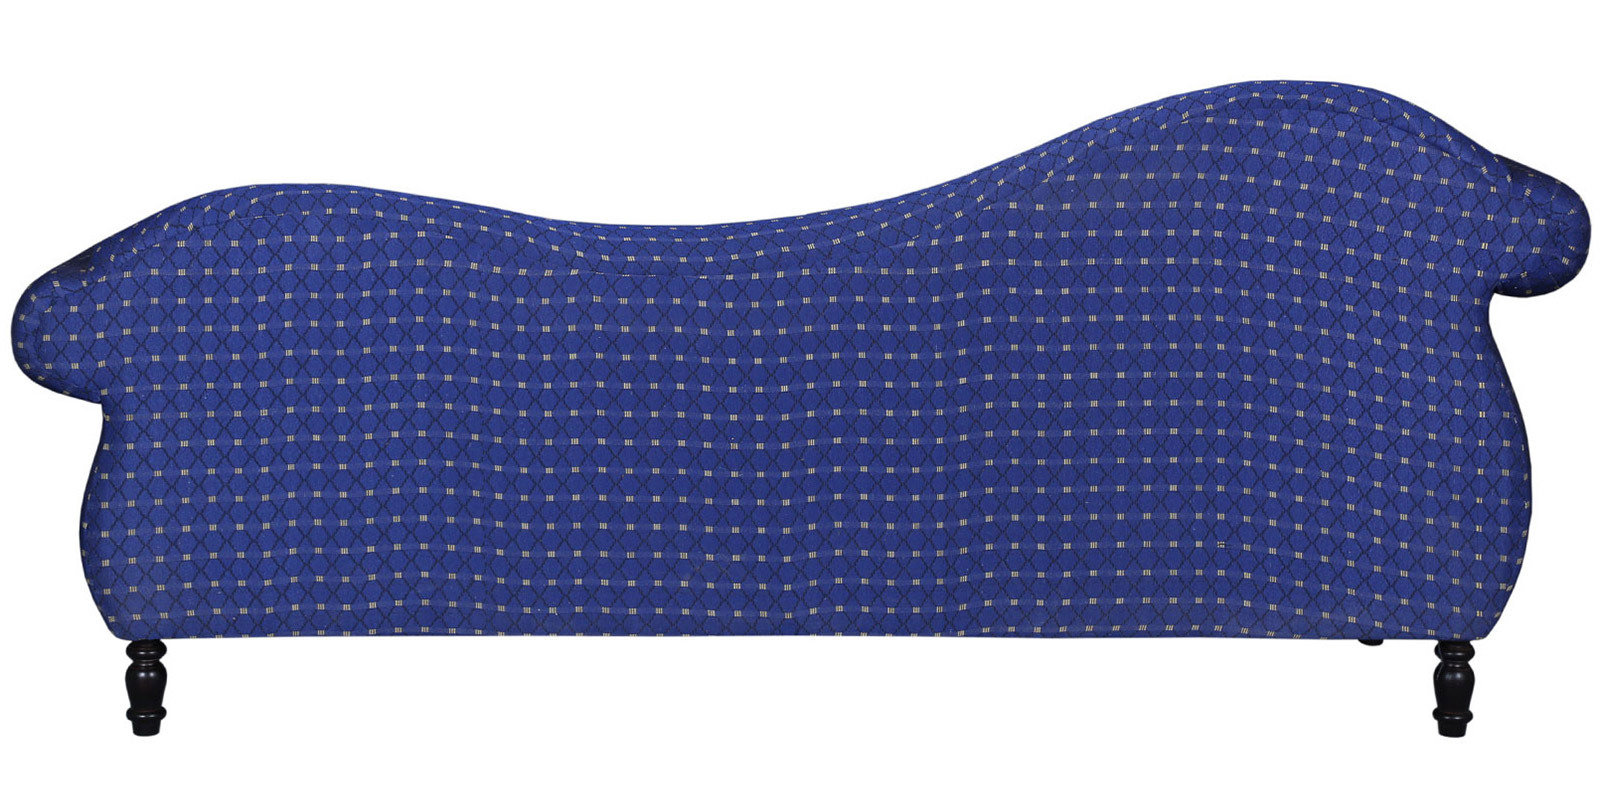Bayley Three Seater Sofa in Blue Color by Amberville: (19, 82, 1583, 710)
